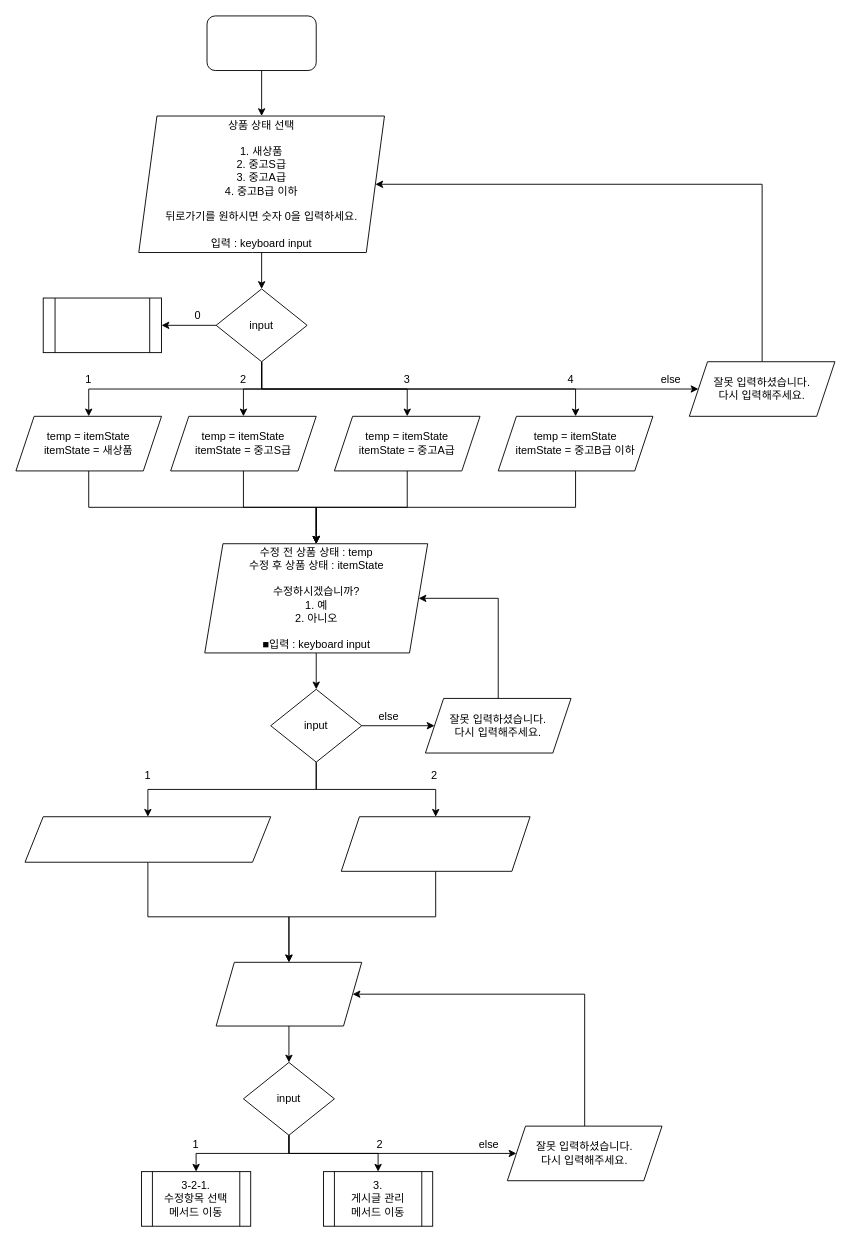
The diagram is 851 pixels wide and 1242 high, and some of its shapes have lost their labels. Here are the shapes that lost their labels. From the top down, the box of each, then its label:
(206, 15, 316, 71): 상품 상태 수정 메서드 진입
(42, 297, 162, 353): 선호거래지역 수정 메서드 이동
(24, 816, 271, 862): 상품 상태가 itemState 수정되었습니다.
(340, 816, 530, 871): itemState = temp 수정이 취소되었습니다.
(215, 961, 362, 1026): 1. 추가 수정하기 2. 나가기 ■입력 : keyboard input
